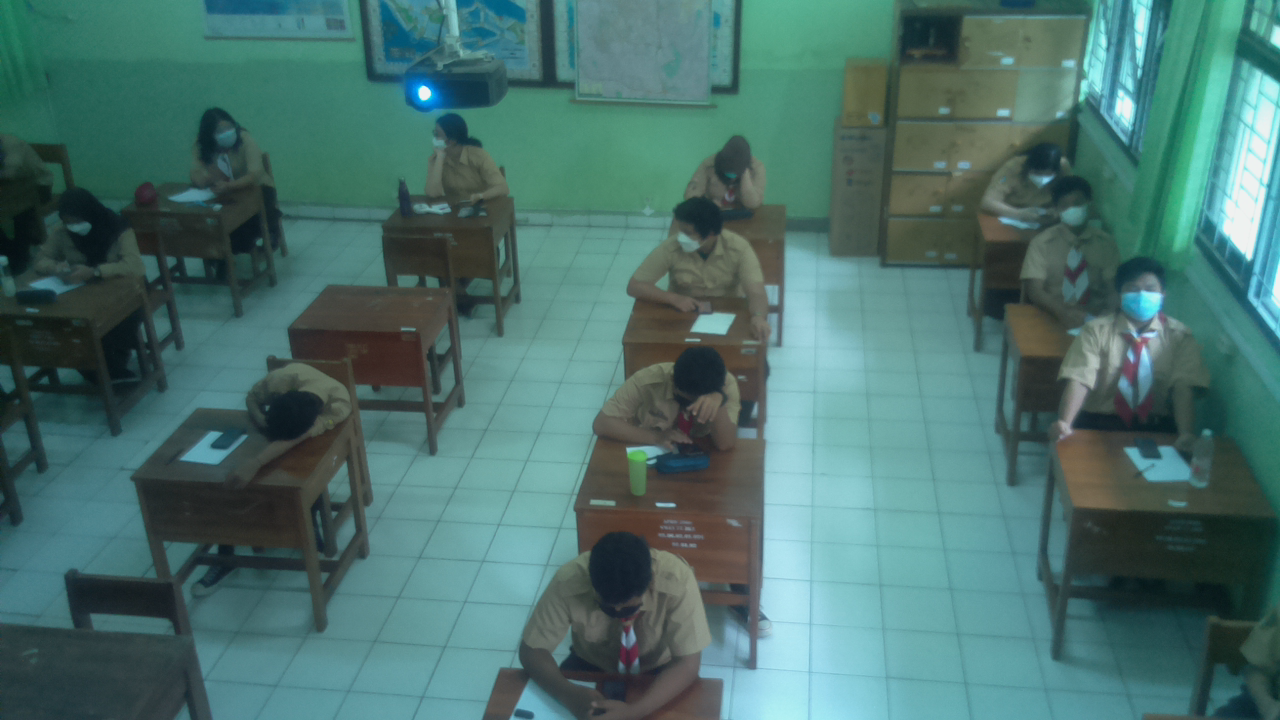Student: (559, 533, 703, 671), (1085, 261, 1198, 415), (623, 343, 739, 438), (1037, 179, 1123, 300), (659, 199, 763, 298), (241, 359, 347, 445), (47, 189, 139, 274), (423, 115, 503, 201), (187, 107, 267, 182), (693, 139, 765, 210), (997, 139, 1067, 209)
